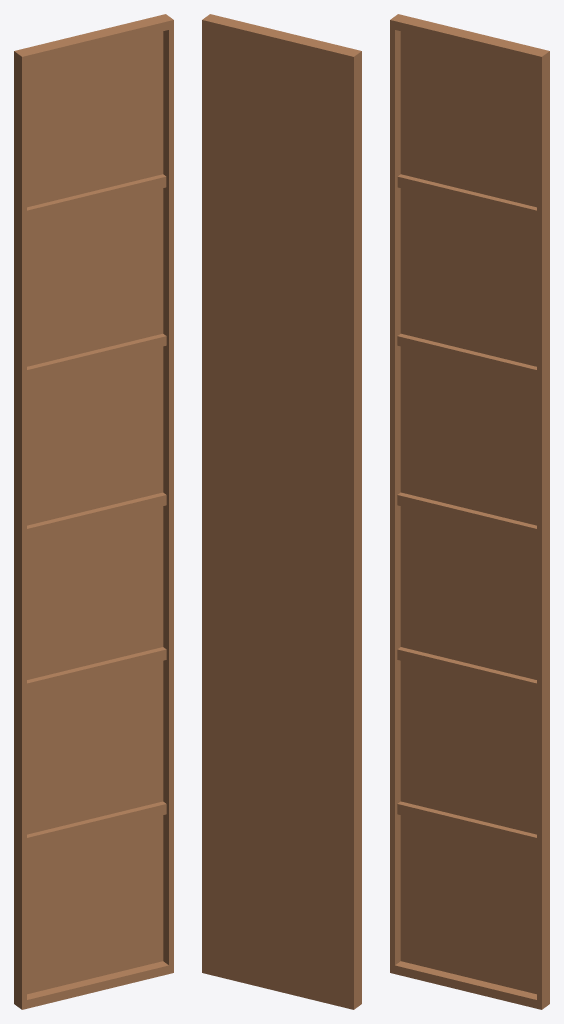
The model's file is Panel12by2.fbx.
3 renders of one model, left to right at view 1: azimuth 30°, elevation 25°; view 2: azimuth 150°, elevation 25°; view 3: azimuth 330°, elevation 25°, orthographic.
Parts seen in each view (by area): view 1: Panel12by2; view 2: Panel12by2; view 3: Panel12by2.
Part boxes in pixels (x1,y1,x2,y2): Panel12by2: [14, 14, 173, 1009]; Panel12by2: [202, 14, 361, 1009]; Panel12by2: [390, 14, 549, 1009].
Size of the model in its own units: 56.06 by 5.16 by 336.
